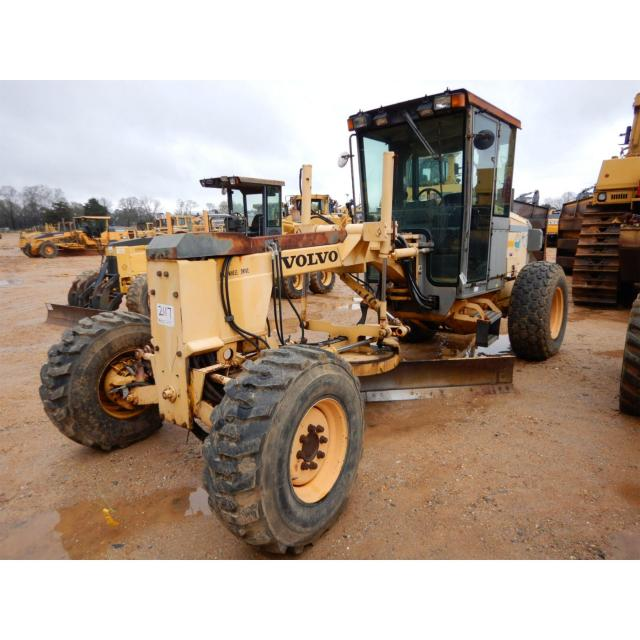Grader: (35, 79, 605, 549)
